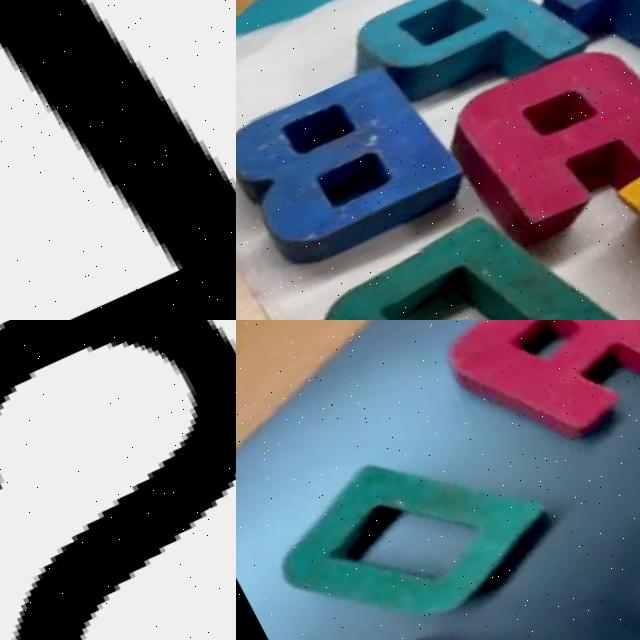A: (431, 6, 640, 252), (413, 320, 640, 487)
B: (236, 27, 480, 284)
D: (236, 389, 573, 640), (304, 168, 625, 320)
L: (0, 0, 236, 320), (516, 103, 640, 320)
P: (328, 0, 597, 149)
S: (0, 320, 236, 640)
W: (288, 566, 605, 640)
